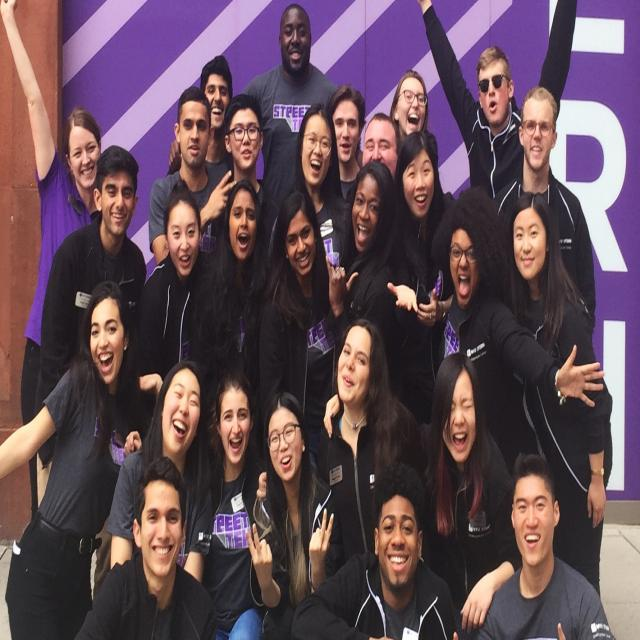body: (495, 187, 617, 639), (0, 1, 103, 523), (428, 181, 606, 481), (0, 280, 131, 640), (34, 142, 149, 522), (414, 0, 583, 198), (316, 314, 432, 584), (290, 460, 460, 640), (179, 364, 285, 640), (72, 453, 219, 640), (472, 449, 614, 640), (258, 187, 348, 482), (243, 386, 347, 640), (492, 84, 598, 326), (105, 352, 213, 586), (134, 177, 227, 424), (383, 126, 459, 426), (240, 1, 341, 198), (147, 84, 238, 269), (267, 103, 355, 286), (324, 155, 398, 370), (206, 90, 285, 262), (203, 178, 269, 368), (165, 53, 236, 189), (323, 82, 369, 200), (388, 66, 440, 168), (361, 109, 402, 185)
